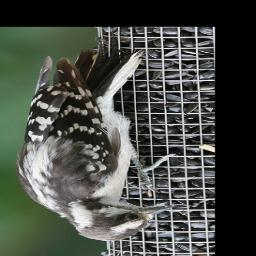Woodpecker: (17, 43, 178, 242)
